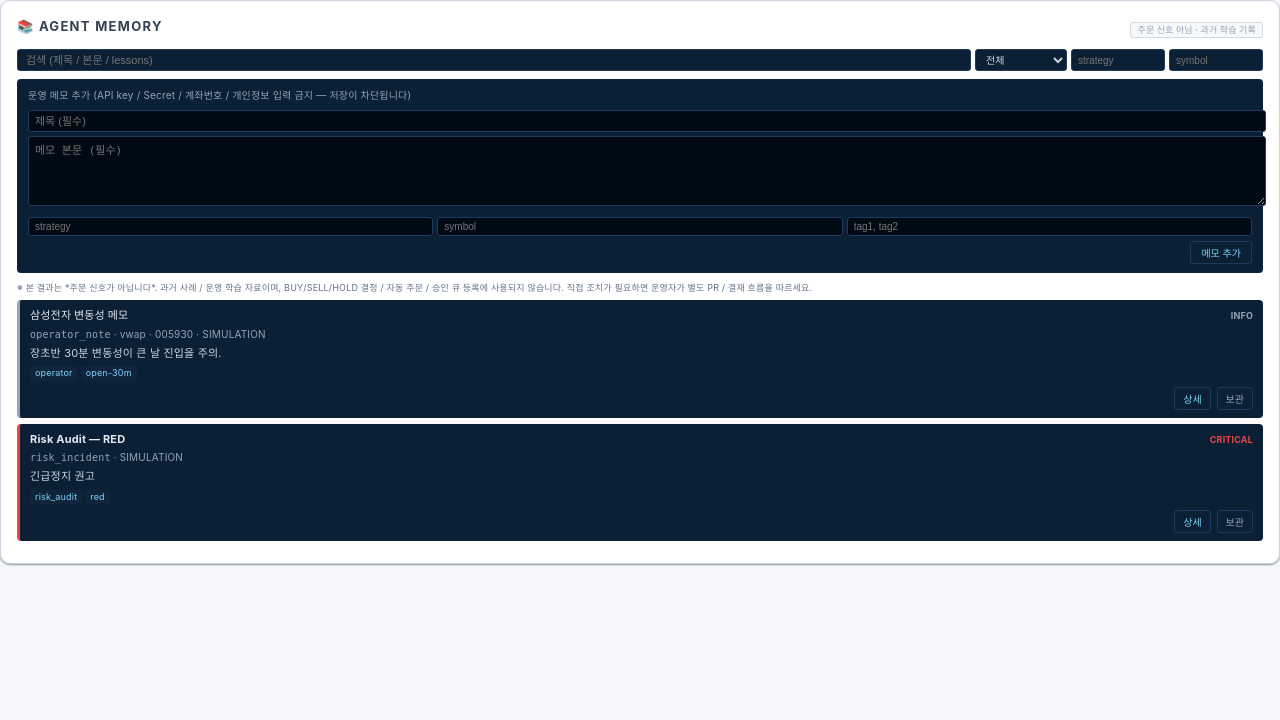
Test: <AgentMemoryCard> › opens detail view on 상세 click
The width and height of the screenshot is (1280, 720).
Click the button with test id "agent-memory-open-1" at (1192, 398), box [1174, 387, 1211, 410]
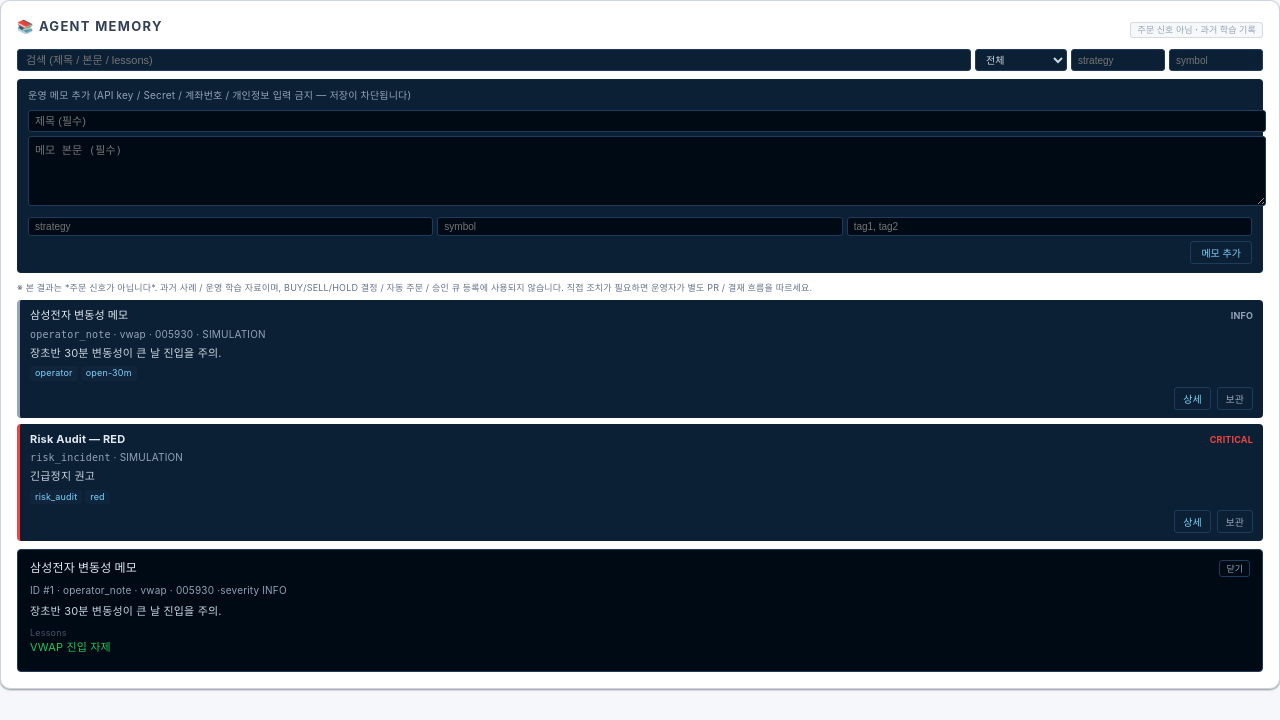
expect the element with test id "agent-memory-detail" shows "삼성전자 변동성 메모": met, box [30, 560, 137, 576]
expect the element with test id "agent-memory-detail" shows "VWAP 진입 자제": met, box [30, 640, 111, 654]
